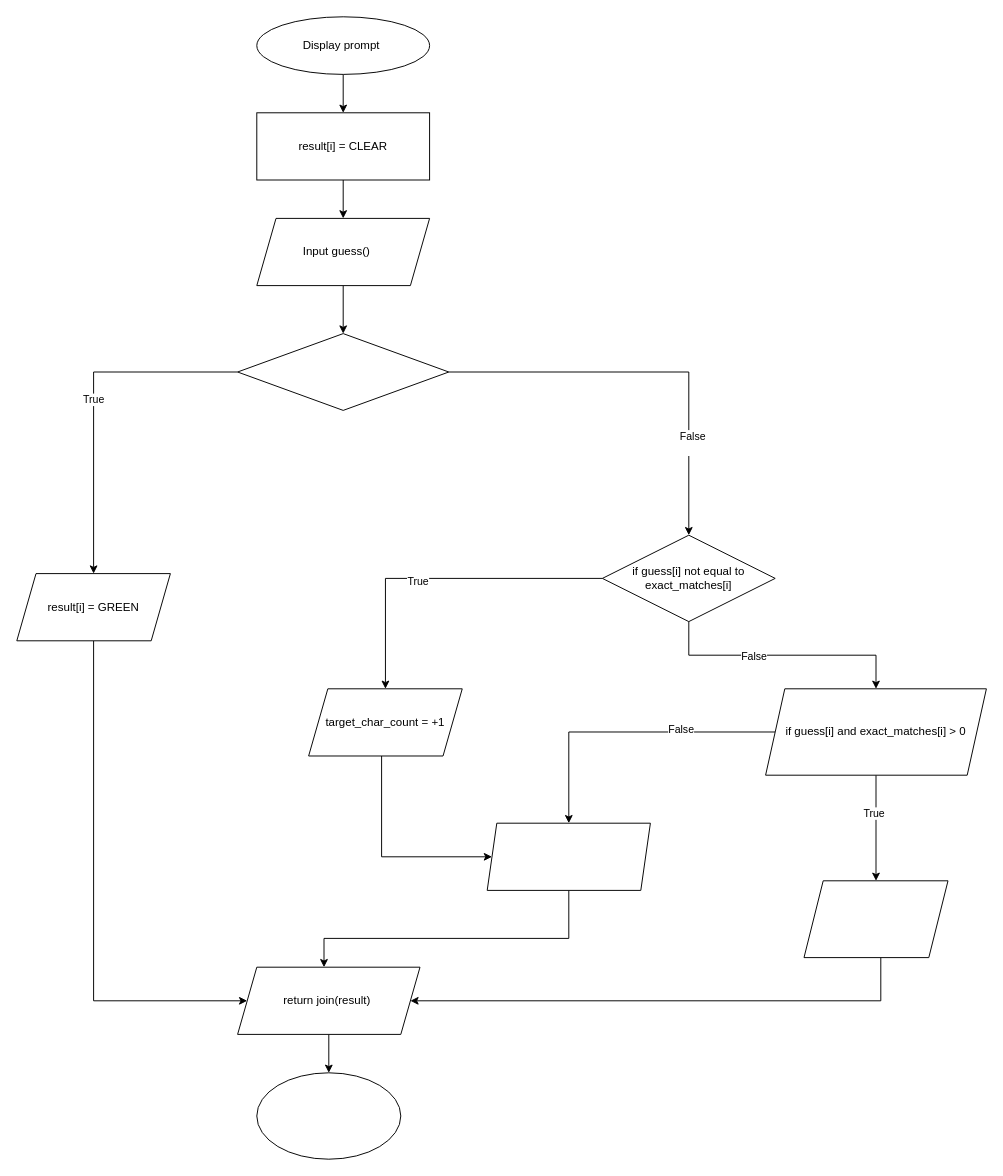
The diagram is 1003 pixels wide and 1176 high, and some of its shapes have lost their labels. Each missing label, with the box of its shape:
is guess[i] = target word [i]?: (237, 333, 449, 410)
Print(result): (256, 1072, 401, 1159)
result[i] = ORANGE target_char_count = +1: (803, 880, 948, 958)
result[i] = pass: (486, 822, 650, 890)
